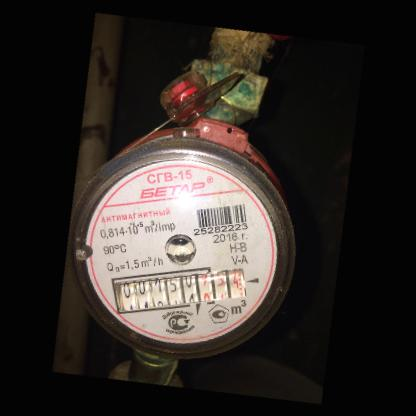digital_screen: (107, 265, 198, 318)
